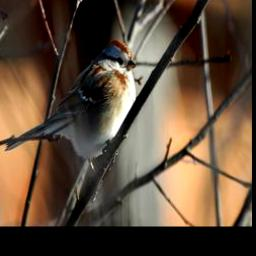Sparrow: (2, 37, 138, 170)
